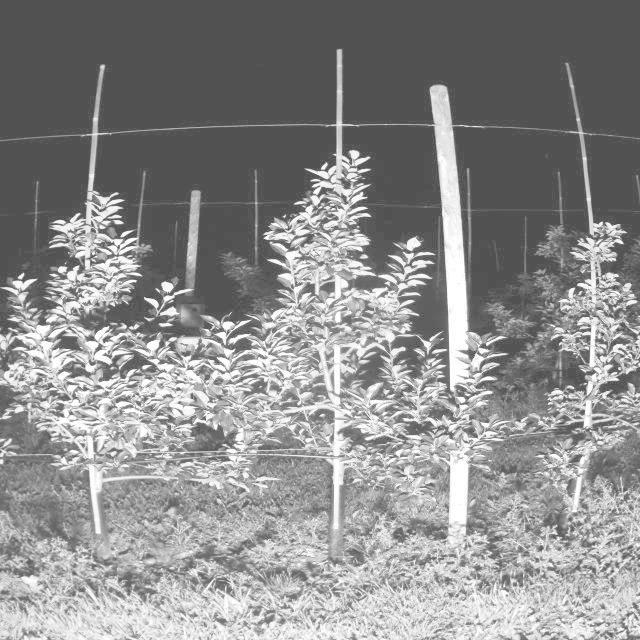Tree: (0, 199, 195, 544), (247, 151, 389, 576), (523, 225, 640, 524)
